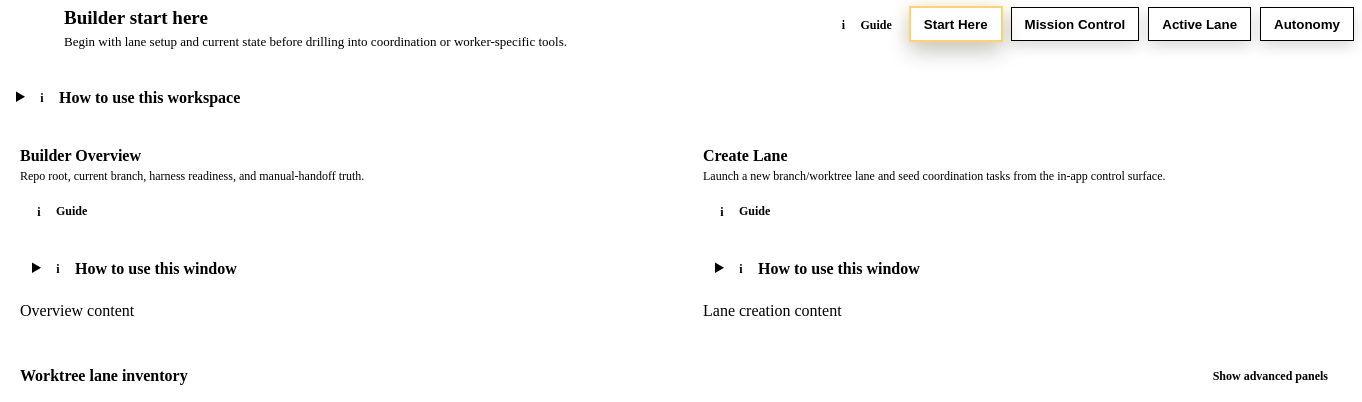
Test: BuilderWorkspaceView › defaults to a guided start-here surface and reveals other builder areas only when selected
Expected: the text "Overview content" is shown, x1=20 y1=302 x2=134 y2=318
Expected: the text "Lane creation content" is shown, x1=703 y1=302 x2=842 y2=318
Click the button "Active Lane": (1200, 24) x1=1148 y1=7 x2=1251 y2=41
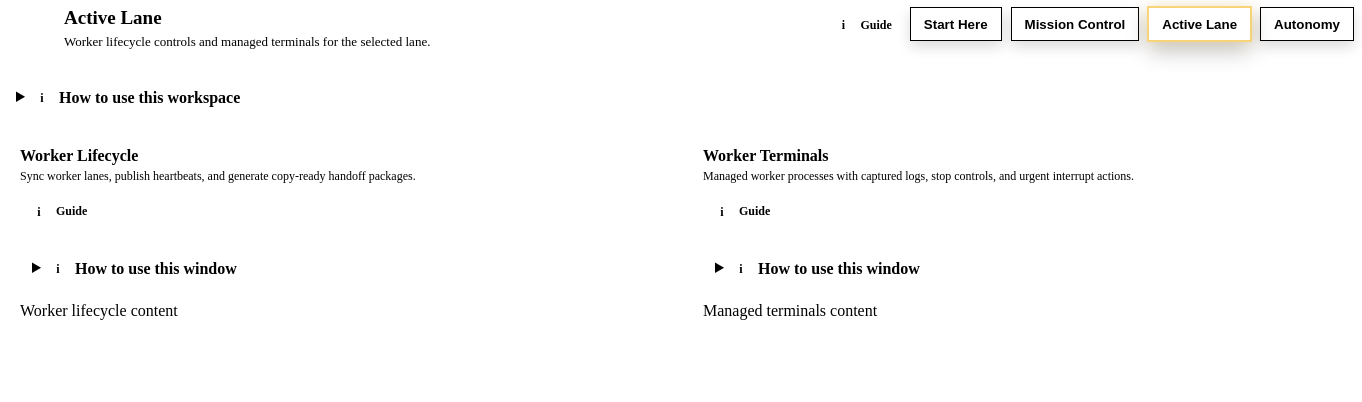
Expected: the text "Worker lifecycle content" is shown, x1=20 y1=302 x2=178 y2=318
Expected: the text "Managed terminals content" is shown, x1=703 y1=302 x2=877 y2=318
Expected: the text "Overview content" is gone
Click the button "Mission Control": (1075, 24) x1=1011 y1=7 x2=1139 y2=41
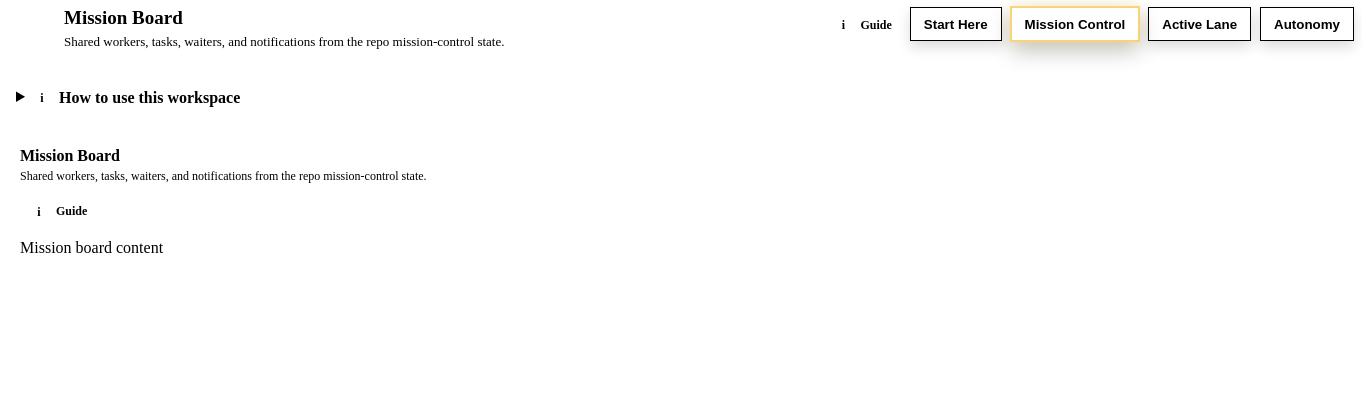
Expected: the text "Mission board content" is shown, x1=20 y1=238 x2=163 y2=256
Expected: the text "Worker lifecycle content" is gone
Click the button "Autonomy": (1307, 24) x1=1260 y1=7 x2=1354 y2=41
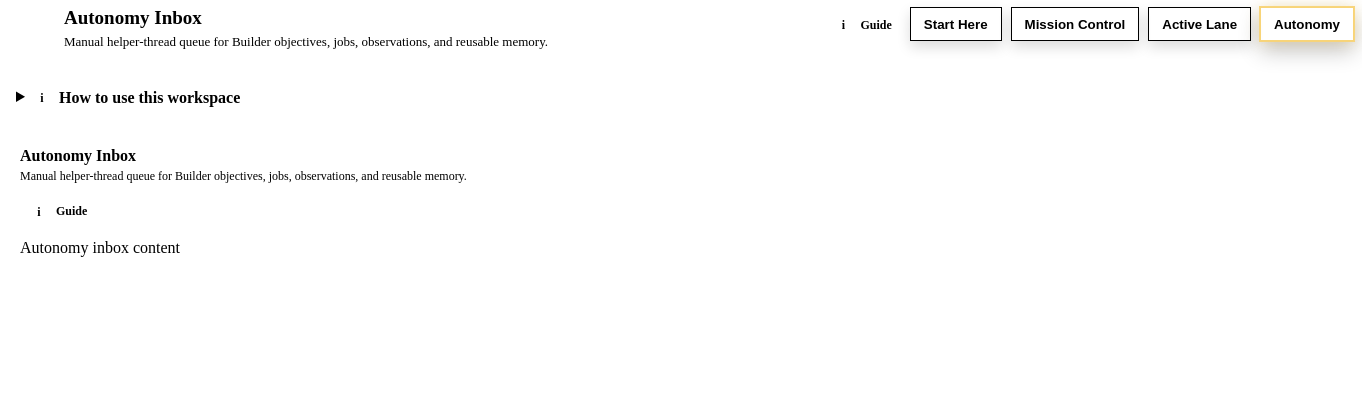
Expected: the text "Autonomy inbox content" is shown, x1=20 y1=238 x2=180 y2=256
Expected: the text "Mission board content" is gone
